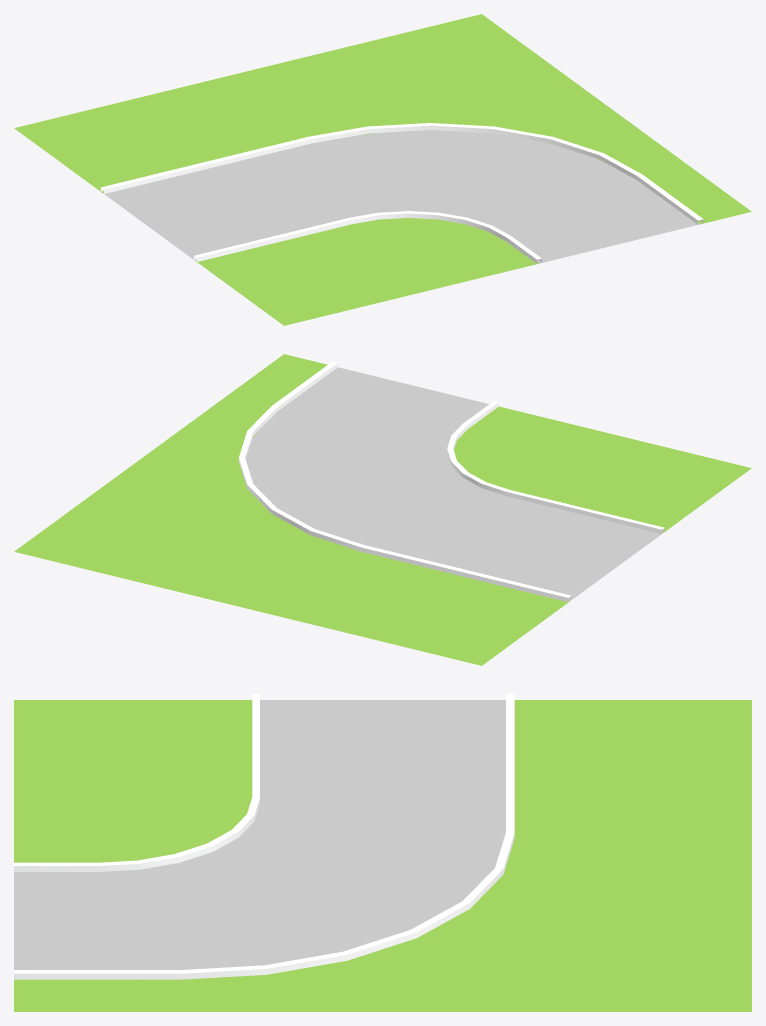
The model's file is Sidewalk_31.glb.
3 renders of one model, top to bottom at view 1: azimuth 30°, elevation 25°; view 2: azimuth 150°, elevation 25°; view 3: azimuth 270°, elevation 25°, orthographic. The views are drawn at different scales.
Parts seen in each view (by area): view 1: Sidewalk_31; view 2: Sidewalk_31; view 3: Sidewalk_31.
Boxes of the visible parts, <box> form: Sidewalk_31: <box>14,14,751,325</box>; Sidewalk_31: <box>14,354,751,665</box>; Sidewalk_31: <box>14,694,751,1011</box>.
Size of the model in its own units: 15 by 0.1333 by 15.
Materials: 1 (1 with a texture image).
